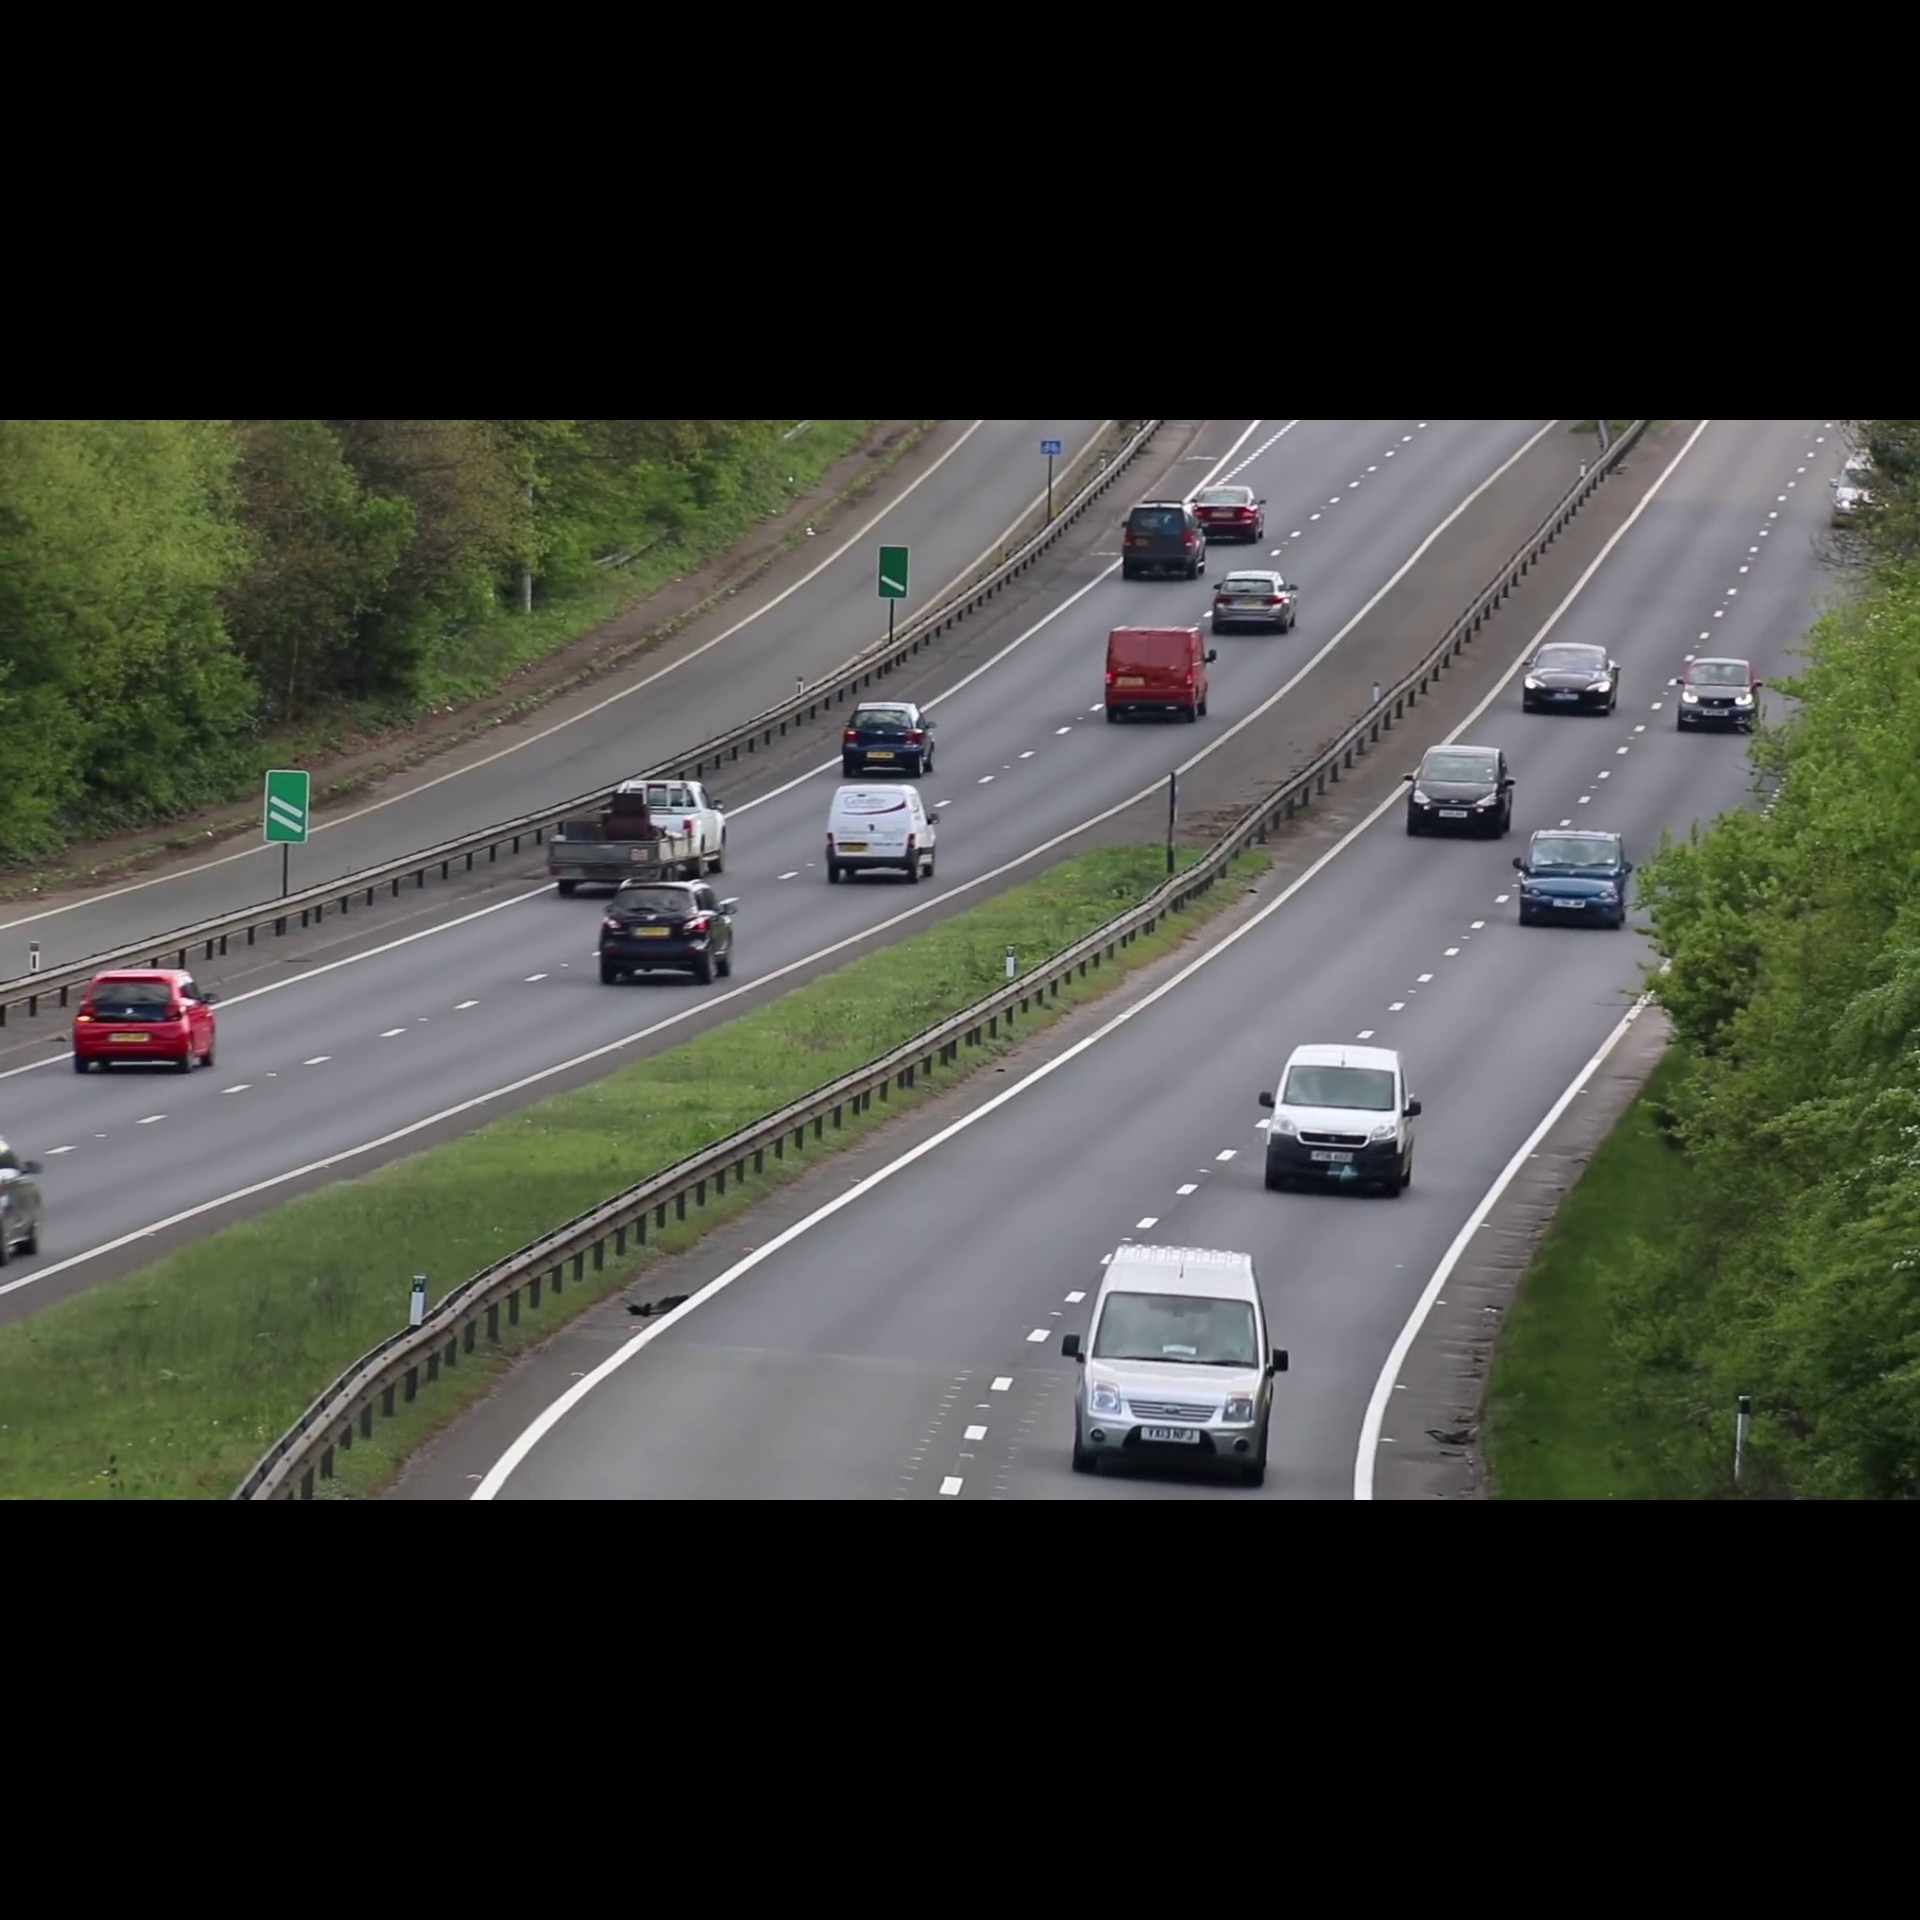vehicle: (1058, 1225, 1296, 1487), (1257, 1036, 1428, 1203), (543, 781, 737, 888), (69, 964, 230, 1078), (593, 879, 738, 993), (1512, 823, 1640, 932), (819, 782, 944, 886), (1396, 740, 1519, 840), (1102, 622, 1213, 724), (1514, 636, 1623, 723), (839, 693, 939, 782), (1669, 656, 1765, 737), (1118, 498, 1208, 580), (1211, 570, 1298, 635), (1194, 484, 1268, 542)
